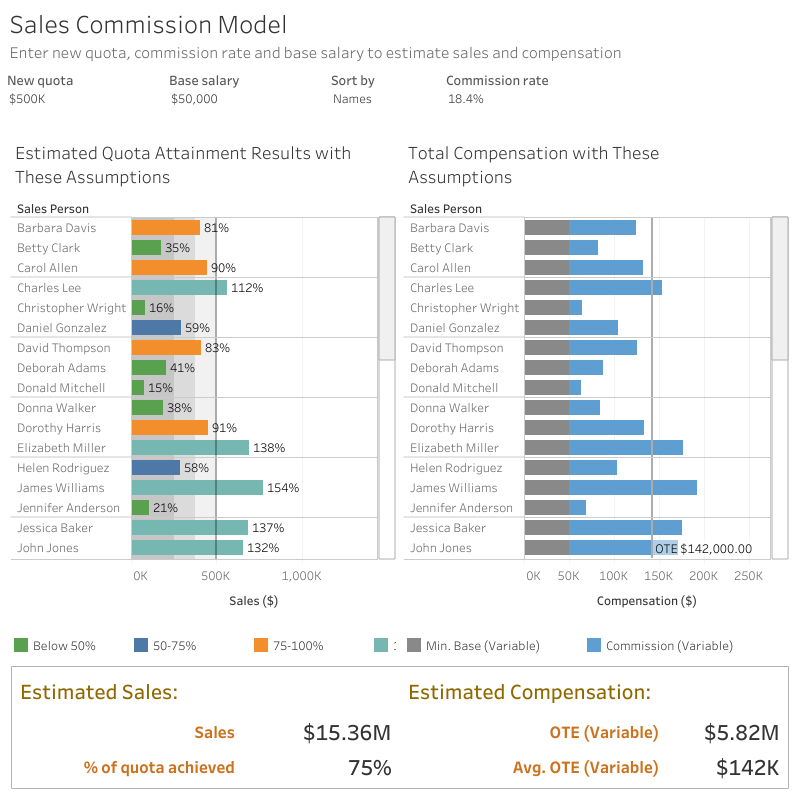

What the dashboard file says about the page in this screenshot:
{"tool":"tableau","page":{"name":"Commission Model","canvas":[1000,1000],"units":"permille","ordinal":0},"visuals":[{"type":"title","box":[7.2,9.2,985.6,42.3]},{"type":"text","box":[7.2,51.5,985.6,33]},{"type":"parameter","param":"[Parameters].[New Quota]","box":[7.2,89.8,202.9,75.3]},{"type":"parameter","param":"[Parameters].[Base Salary]","box":[210.1,89.8,202.9,75.3]},{"type":"parameter","param":"[Parameters].[Parameter 1 1]","box":[412.9,89.8,144.9,75.3]},{"type":"parameter","param":"[Parameters].[Commission Rate]","box":[557.8,89.8,144.8,75.3]},{"type":"blank","box":[702.7,89.8,290.1,75.3]},{"type":"worksheet","title":"QuotaAttainment","mark":"Automatic","rows":["Calculation_4120925132203686","Sales Person"],"cols":["Achievement (copy)"],"box":[7.2,170.4,492.8,593.1]},{"type":"worksheet","title":"CommissionProjection","mark":"Automatic","rows":["Calculation_4120925132203686","Sales Person"],"box":[500,170.4,492.8,593.1]},{"type":"legend","title":"QuotaAttainment","param":"[federated.0a01cod1oxl83l1f5yves1cfciqo].[usr:Achievement (variable) (copy):nk]","box":[7.2,776.8,492.8,38.3]},{"type":"legend","title":"CommissionProjection","param":"[federated.0a01cod1oxl83l1f5yves1cfciqo].[:Measure Names]","box":[500,776.8,492.8,38.3]},{"type":"worksheet","title":"Sales","mark":"Automatic","box":[12.3,824.3,487.7,159.8]},{"type":"worksheet","title":"OTE","mark":"Automatic","box":[500,824.3,487.7,159.8]}]}

Visuals, with their boxes on the dashboard's canvas, which has no fixed pixel size, in thousandths of its width and height (x1, y1, x2, y2). These are canvas units, not pixel positions in the 800x800 screenshot, which may show the page scaled, cropped or inside an application window:
title: <bbox>7, 9, 993, 52</bbox>
text: <bbox>7, 52, 993, 84</bbox>
parameter: <bbox>7, 90, 210, 165</bbox>
parameter: <bbox>210, 90, 413, 165</bbox>
parameter: <bbox>413, 90, 558, 165</bbox>
parameter: <bbox>558, 90, 703, 165</bbox>
blank: <bbox>703, 90, 993, 165</bbox>
"QuotaAttainment" worksheet: <bbox>7, 170, 500, 764</bbox>
"CommissionProjection" worksheet: <bbox>500, 170, 993, 764</bbox>
"QuotaAttainment" legend: <bbox>7, 777, 500, 815</bbox>
"CommissionProjection" legend: <bbox>500, 777, 993, 815</bbox>
"Sales" worksheet: <bbox>12, 824, 500, 984</bbox>
"OTE" worksheet: <bbox>500, 824, 988, 984</bbox>
